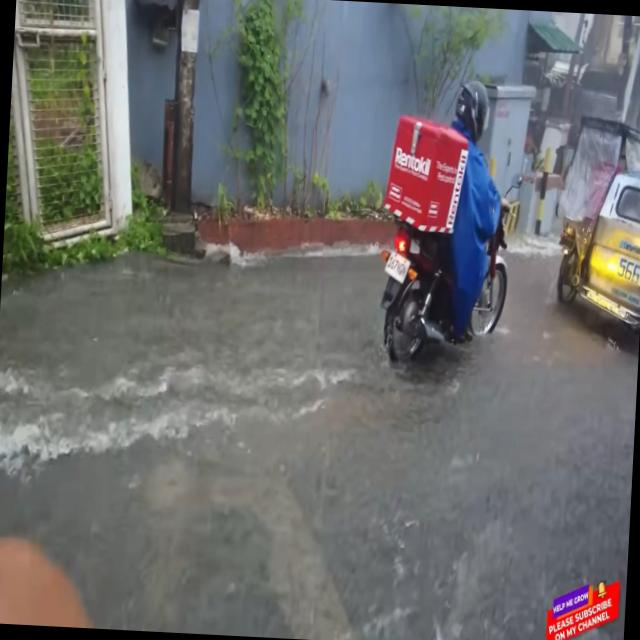full: (448, 66, 498, 156)
